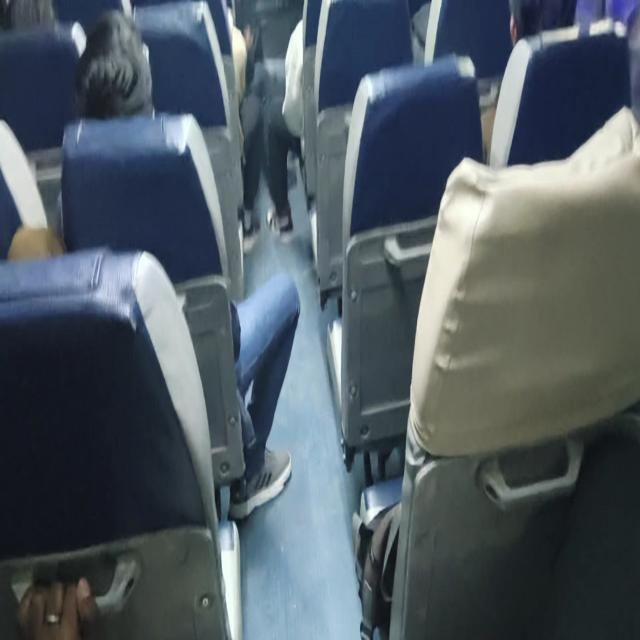person: (7, 8, 301, 521), (7, 8, 155, 260), (227, 270, 301, 521), (263, 18, 305, 234), (74, 8, 154, 120), (228, 11, 264, 237), (15, 573, 99, 638)
